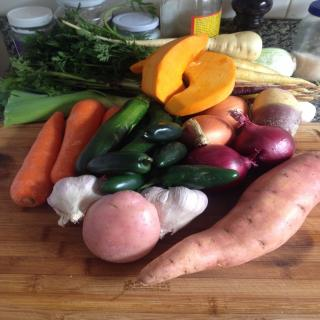Carrot: (7, 110, 61, 209), (51, 97, 106, 186)
Potato: (122, 149, 320, 287), (82, 191, 161, 262)
